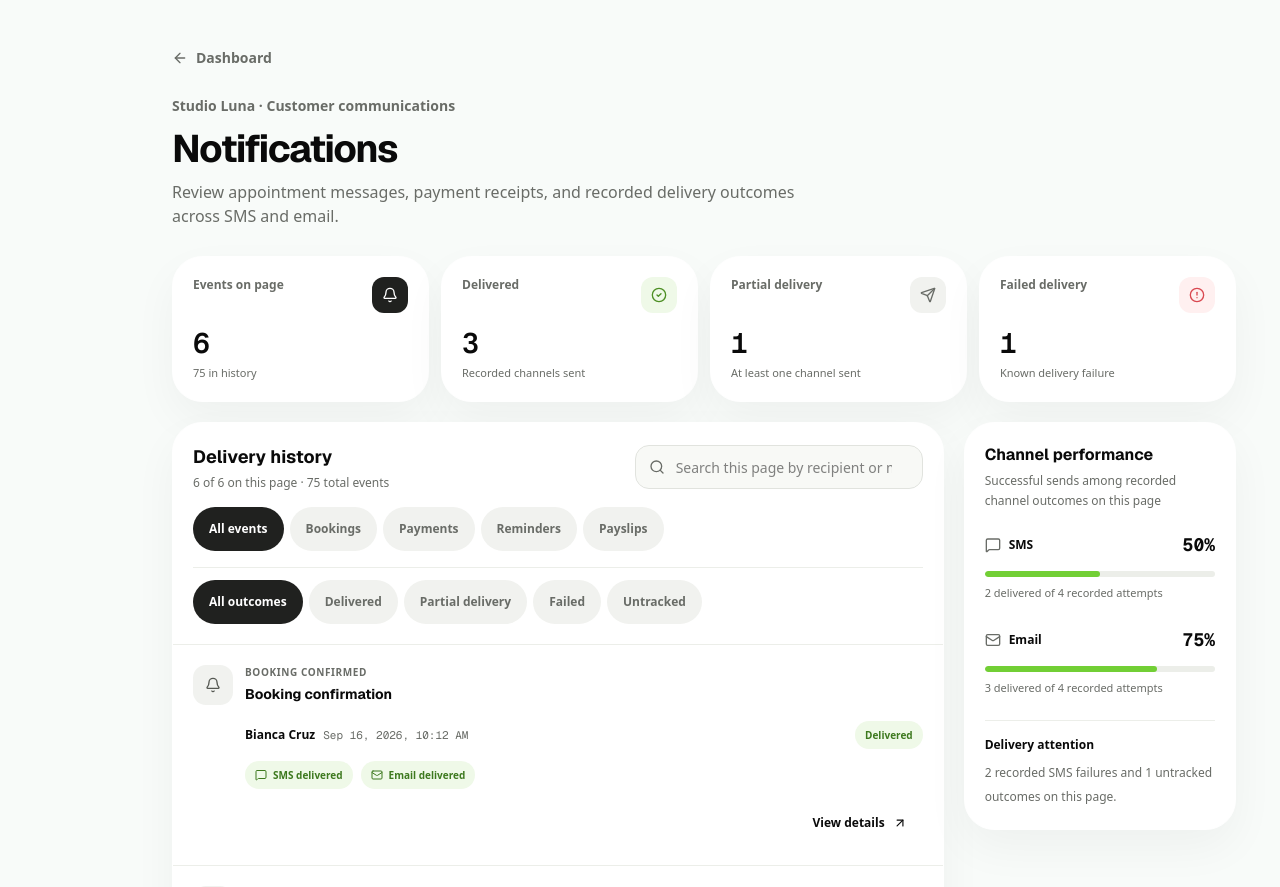
Test: Notifications preview › shows untracked delivery and page-scoped totals without claiming delivery
The image size is (1280, 887).
Click the button "Untracked" at [654, 602], box top-left (607, 580), bottom-right (702, 624)
(page scrolled)
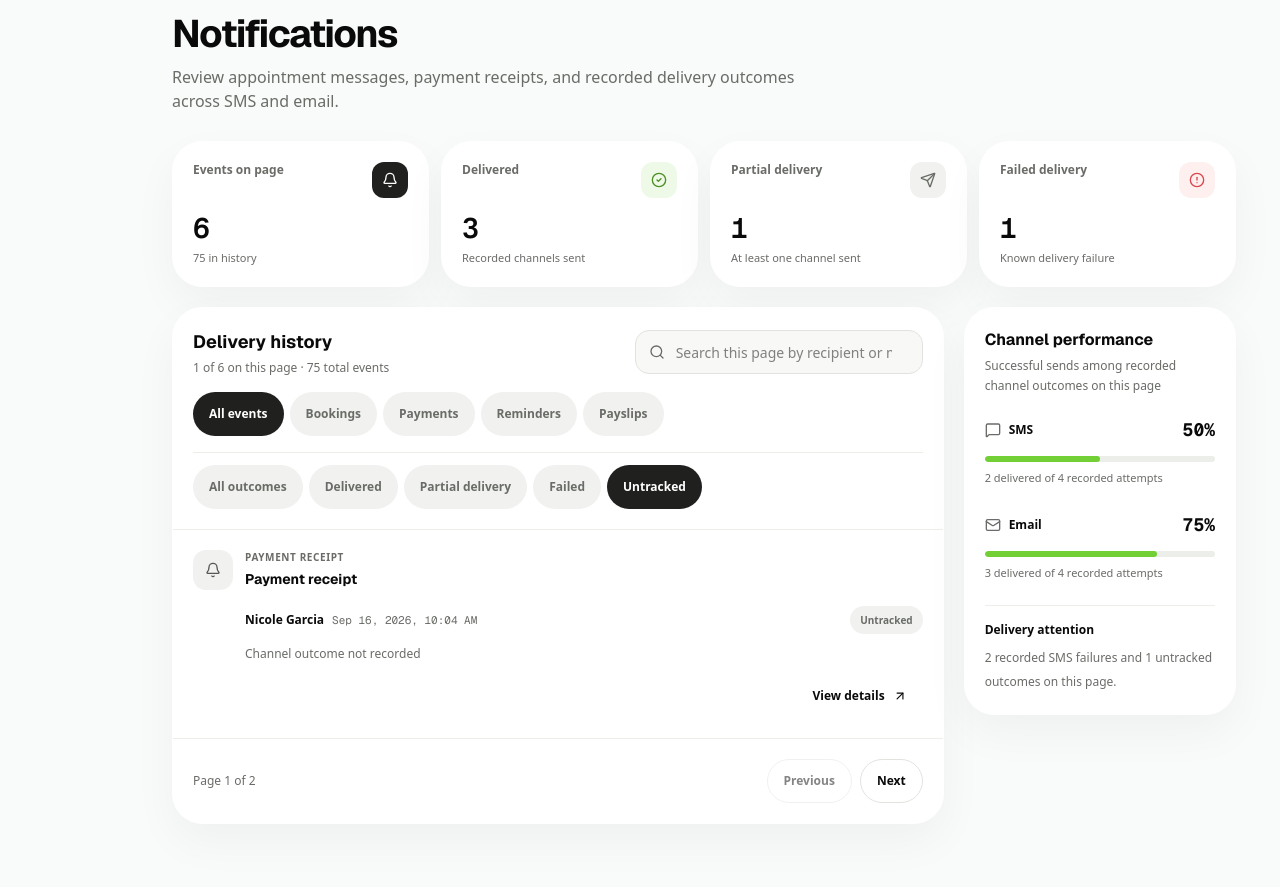
Check: the text "Nicole Garcia" is shown, box top-left (245, 611), bottom-right (324, 628)
Check: the message reads "1 of 6 on this page · 75 total events", box top-left (193, 360), bottom-right (389, 376)
